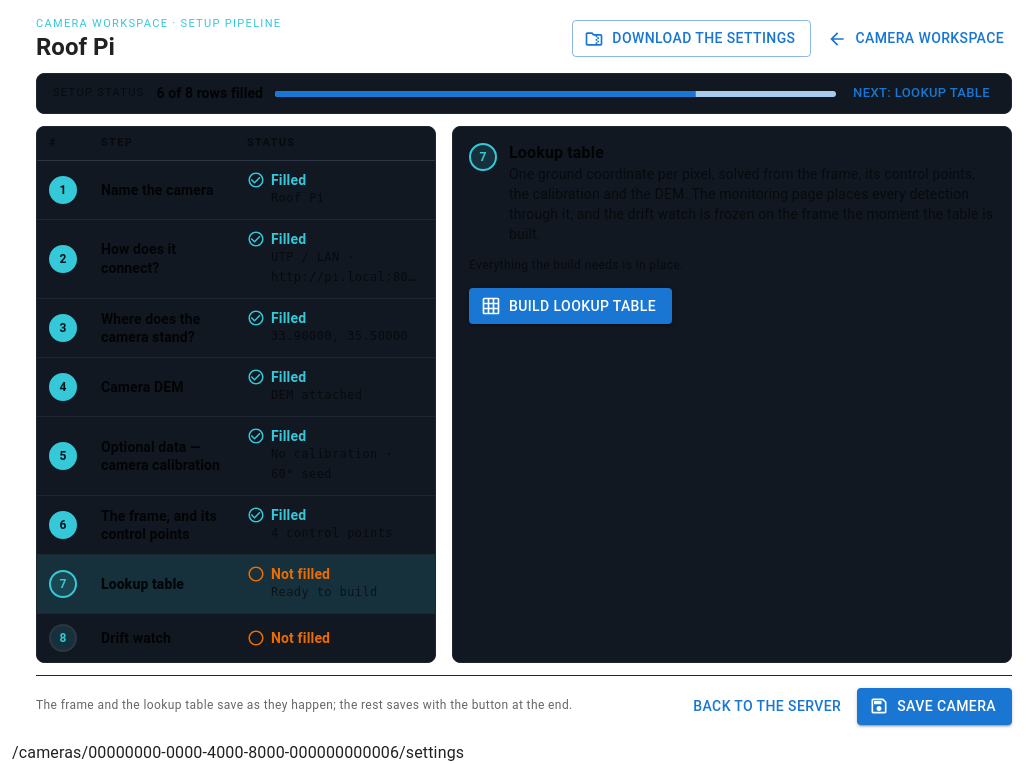
Test: an EXISTING camera › ★ 2026-09-09: "No calibration" with a BLANK field of view is enough — the solve starts from the default seed
The image size is (1036, 764).
Click the heading "Optional data — camera calibration".
click(162, 456)  # box [101,438,223,474]
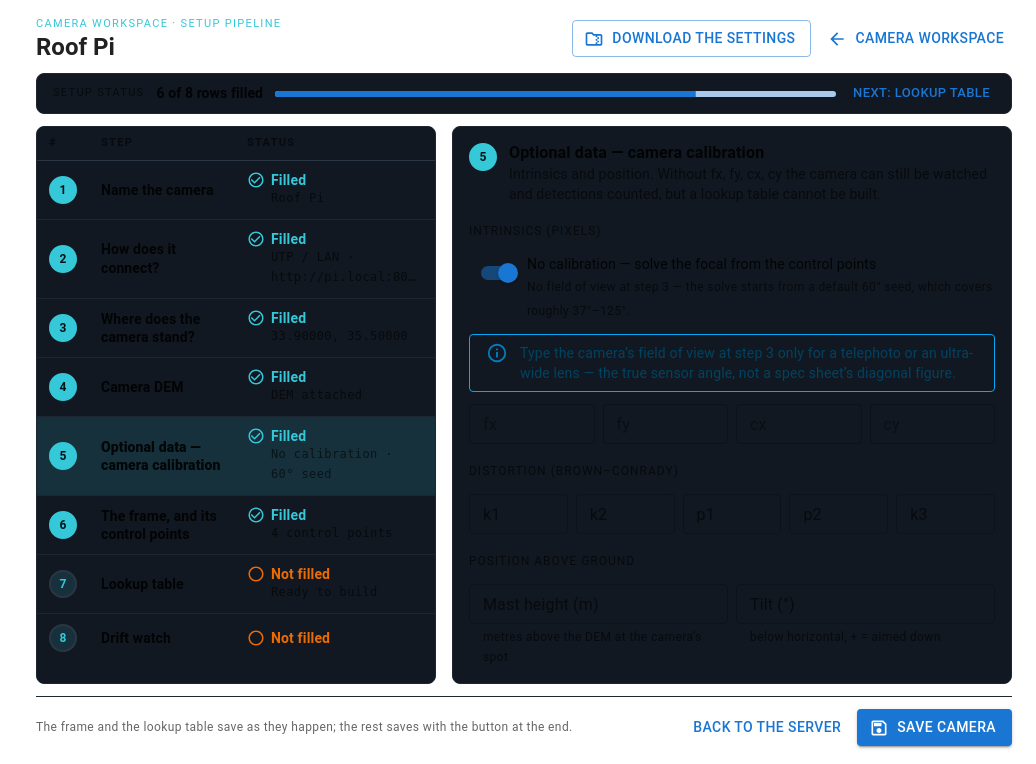
Expected: the checkbox labelled "No calibration" is checked, [469,254,995,322]
Click the heading "Lookup table".
click(142, 584)  # box [101,576,184,592]
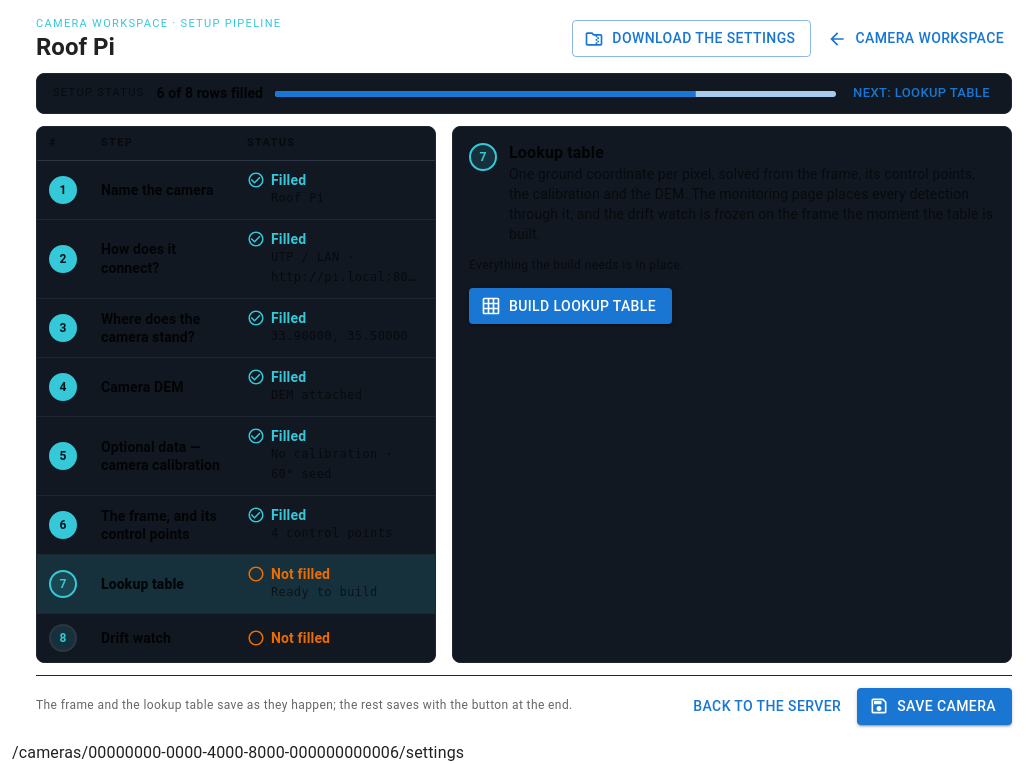
Expected: the button "Build lookup table" is enabled, [469,288,672,324]
